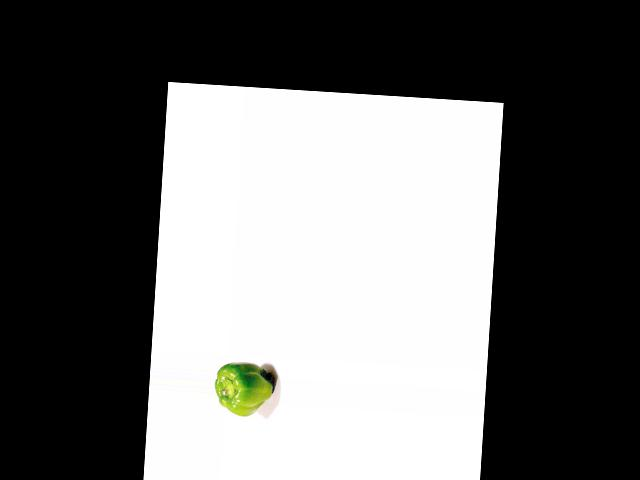bell_pepper: (213, 359, 277, 420)
